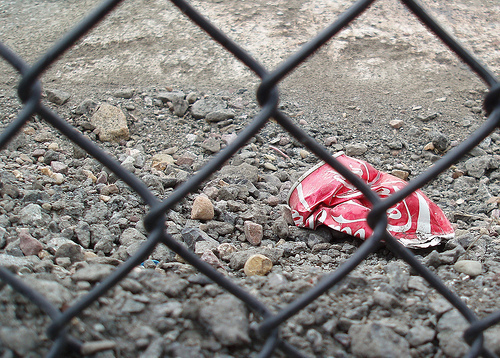litter: (287, 152, 455, 247)
